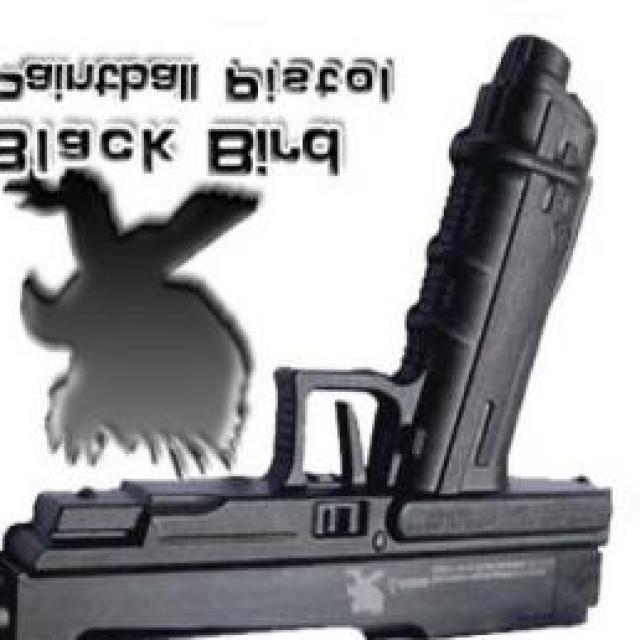pistol: (0, 35, 615, 640)
